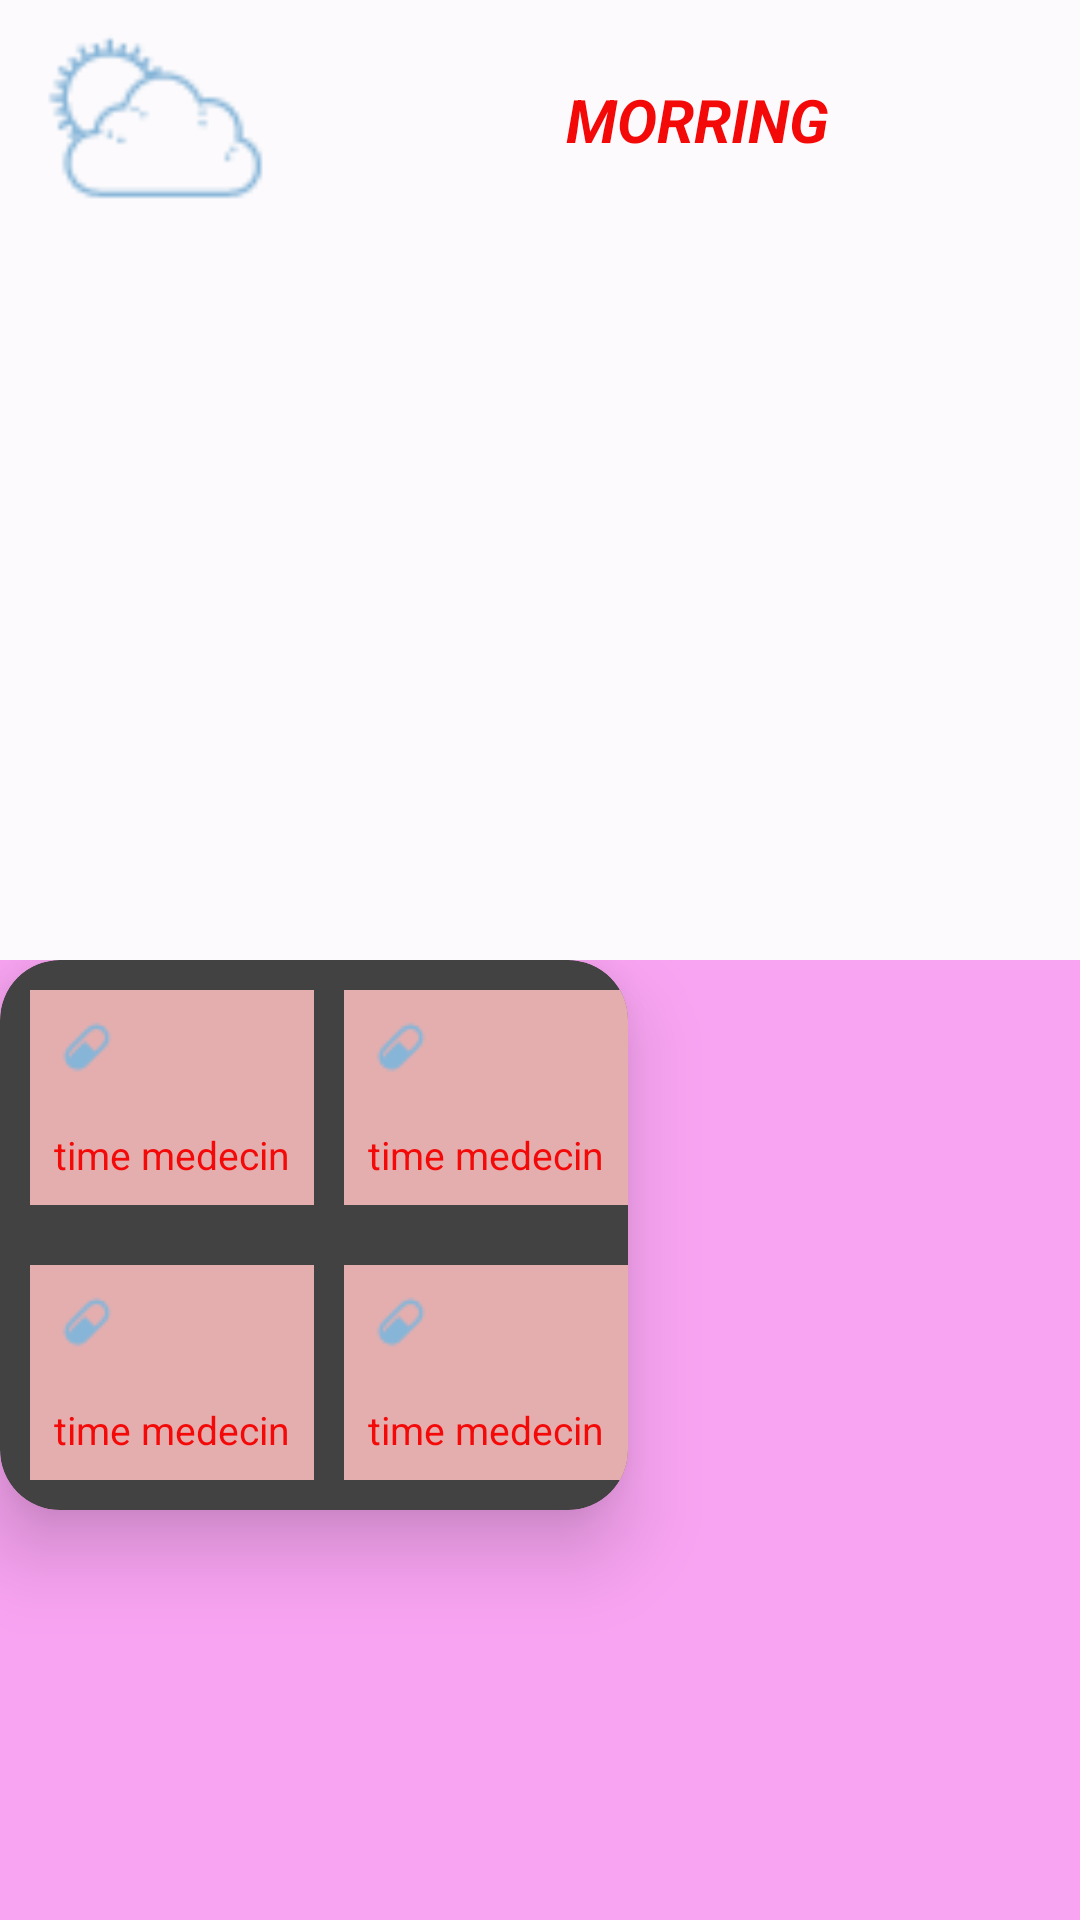

Named icons in this screenshot (1080*1920) and their bounding boxes, (x1, y1, x2, y2):
cloud: (49, 38, 262, 198)
pillicon: (63, 1023, 110, 1071), (377, 1023, 424, 1071), (63, 1298, 110, 1346), (377, 1298, 424, 1346)
